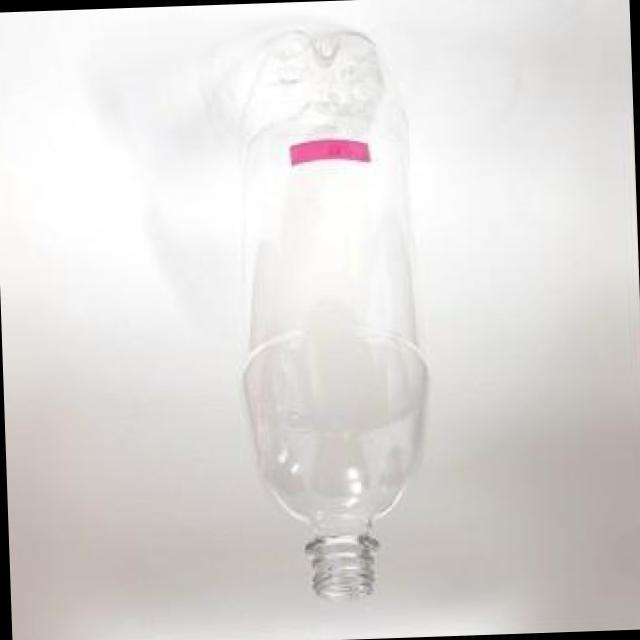good: (212, 10, 466, 618)
